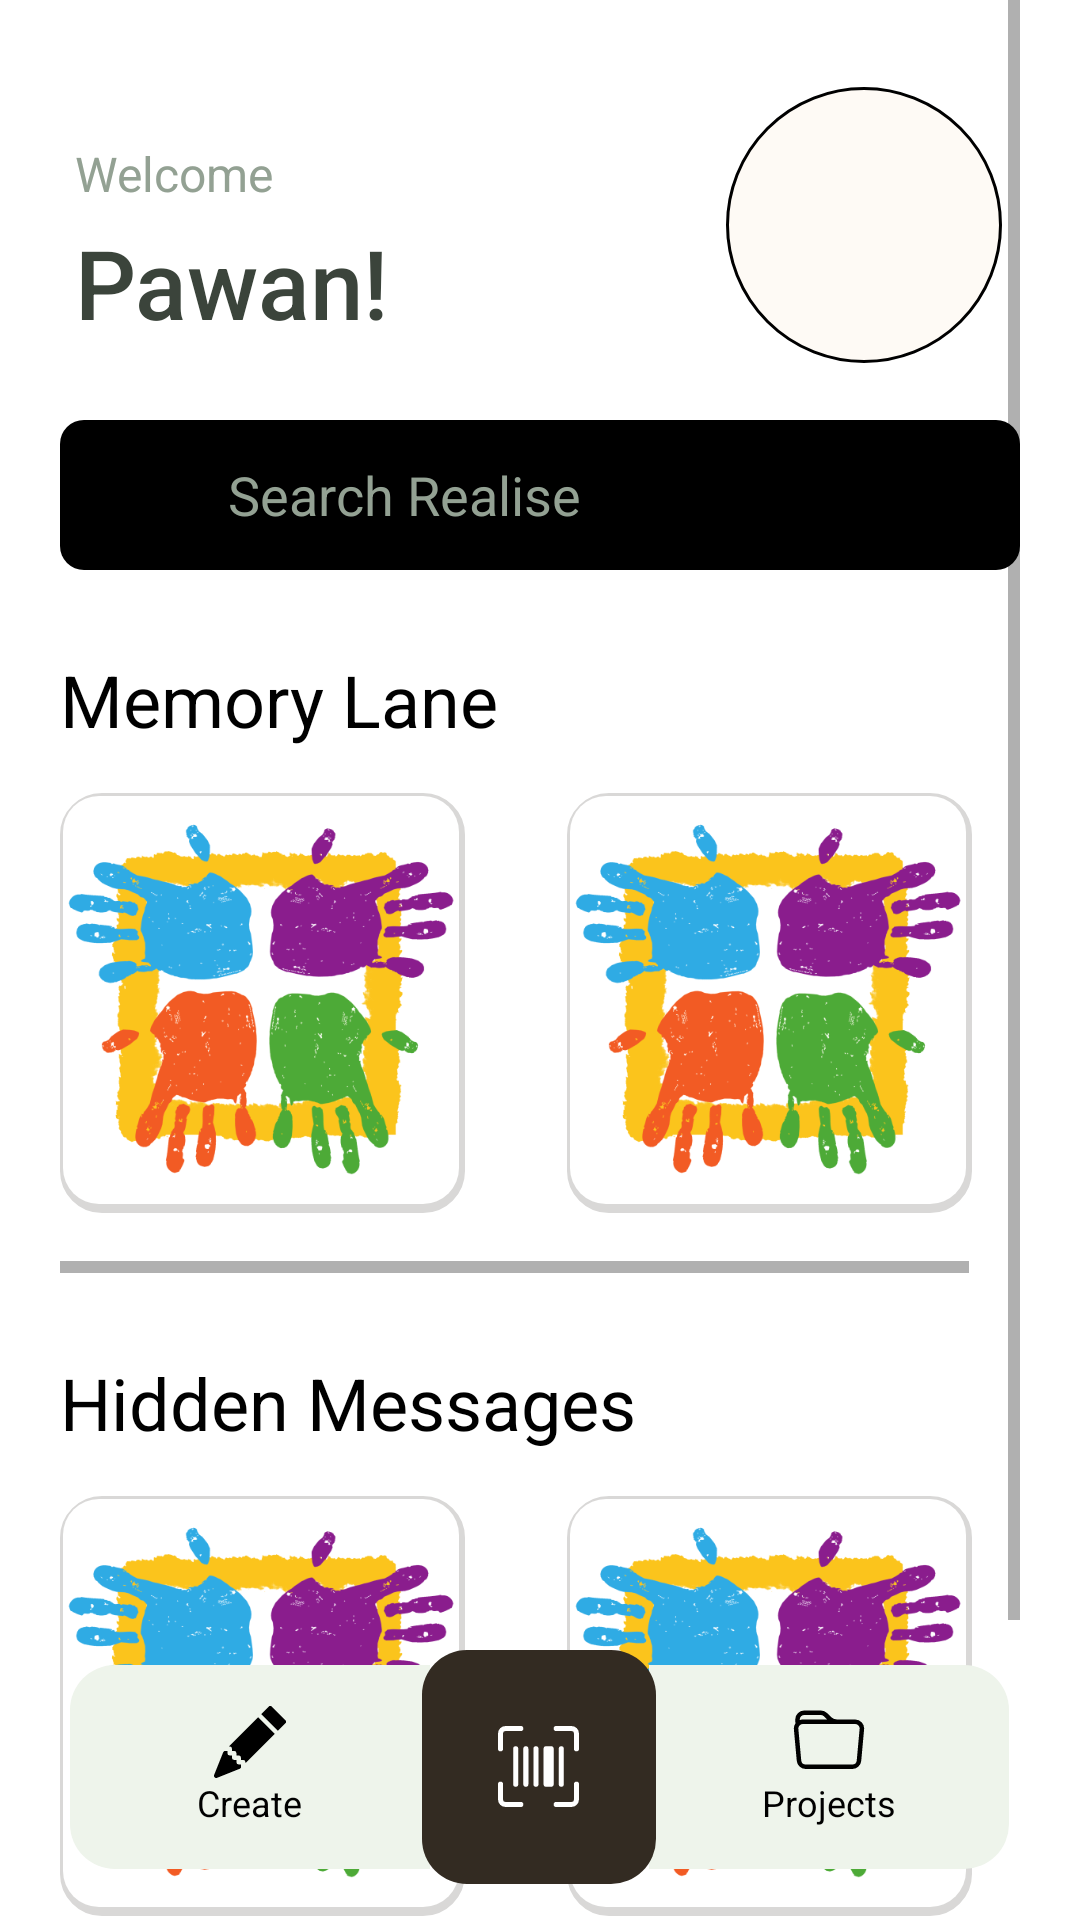

Screen size 1080 × 1920. Icon name, then its box in pixels as rect(x1, y1, x2, y2):
folder: rect(793, 1710, 865, 1769)
pencil: rect(214, 1706, 286, 1778)
upc scan: rect(498, 1726, 579, 1807)
